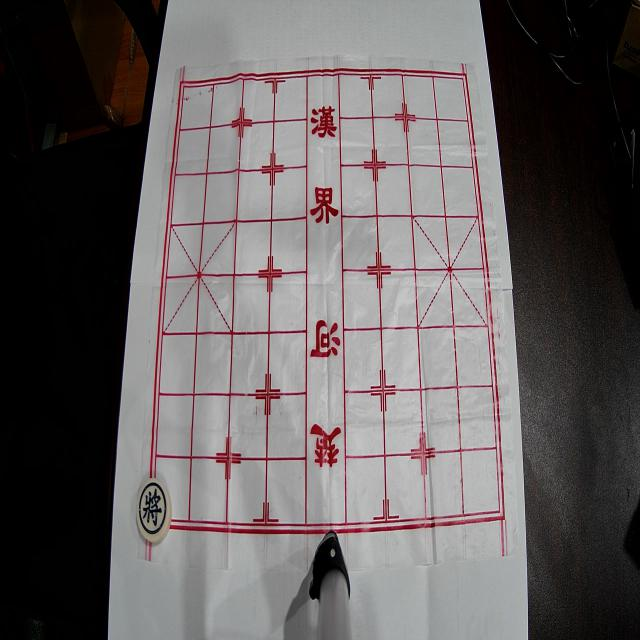black-general: (136, 478, 172, 543)
